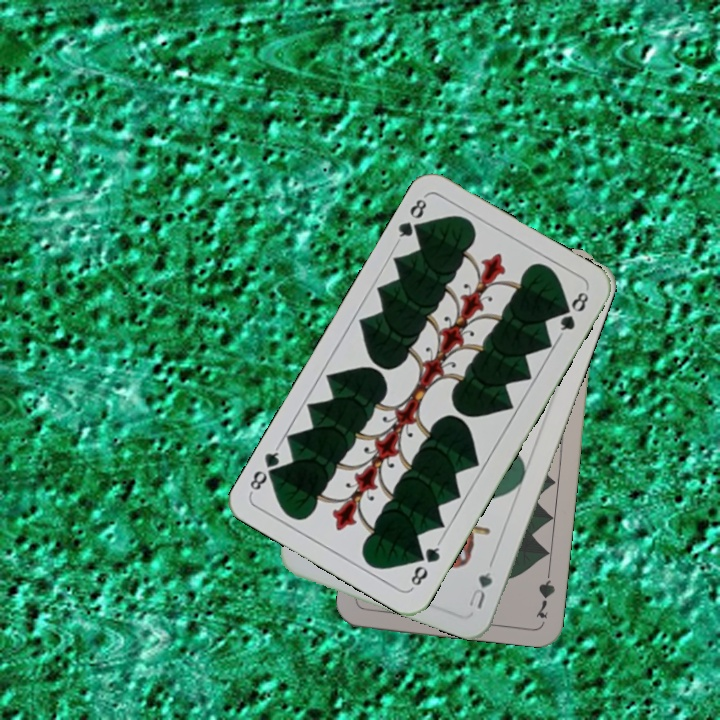G7: (531, 562, 558, 621)
G8: (392, 194, 430, 246), (406, 538, 443, 591)
GU: (464, 558, 496, 611)
